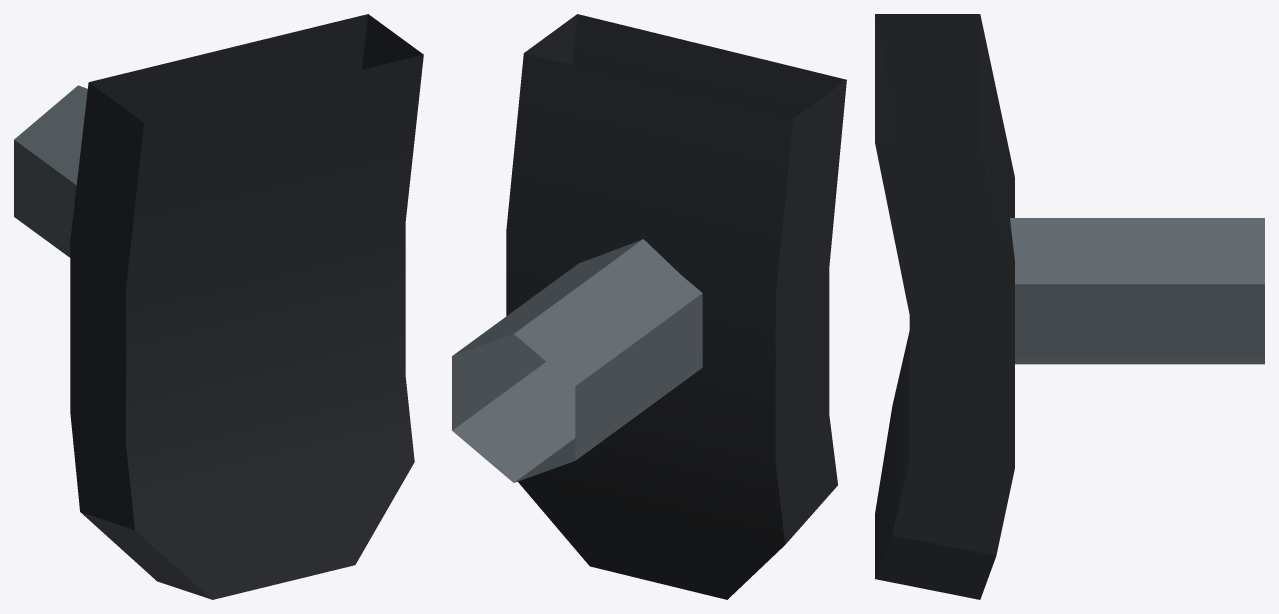
Rendered from SM_Prop_AirDrill_01_Trigger.fbx.
3 views of the same model, side by side, from view 1: azimuth 30°, elevation 25°; view 2: azimuth 150°, elevation 25°; view 3: azimuth 270°, elevation 25° (orthographic). The views are drawn at different scales.
Parts seen in each view (by area): view 1: SM_Prop_AirDrill_01_Trigger; view 2: SM_Prop_AirDrill_01_Trigger; view 3: SM_Prop_AirDrill_01_Trigger.
Boxes of the visible parts, left/top/right/bottom form: SM_Prop_AirDrill_01_Trigger: left=14, top=14, right=423, bottom=599; SM_Prop_AirDrill_01_Trigger: left=452, top=14, right=846, bottom=599; SM_Prop_AirDrill_01_Trigger: left=875, top=14, right=1264, bottom=599.
Size of the model in its own units: 3.36 by 5.92 by 4.28.
